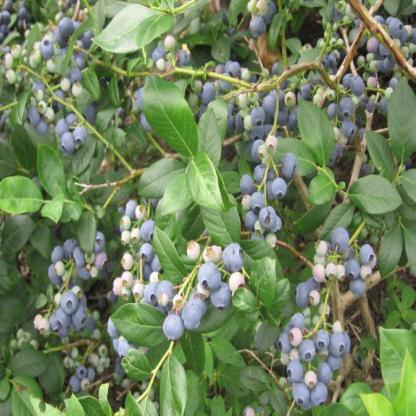Blueberry leaf: (86, 1, 178, 57), (144, 74, 196, 162), (130, 158, 194, 218), (108, 300, 177, 352), (294, 97, 340, 173), (342, 173, 404, 222), (382, 76, 416, 162), (150, 218, 186, 288), (156, 348, 191, 416), (34, 139, 67, 202), (191, 157, 226, 216), (245, 256, 280, 314), (1, 174, 39, 224), (201, 106, 227, 165), (229, 367, 271, 396)
